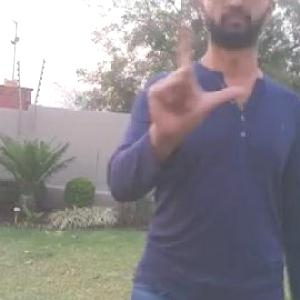land_hand: (136, 15, 246, 141)
